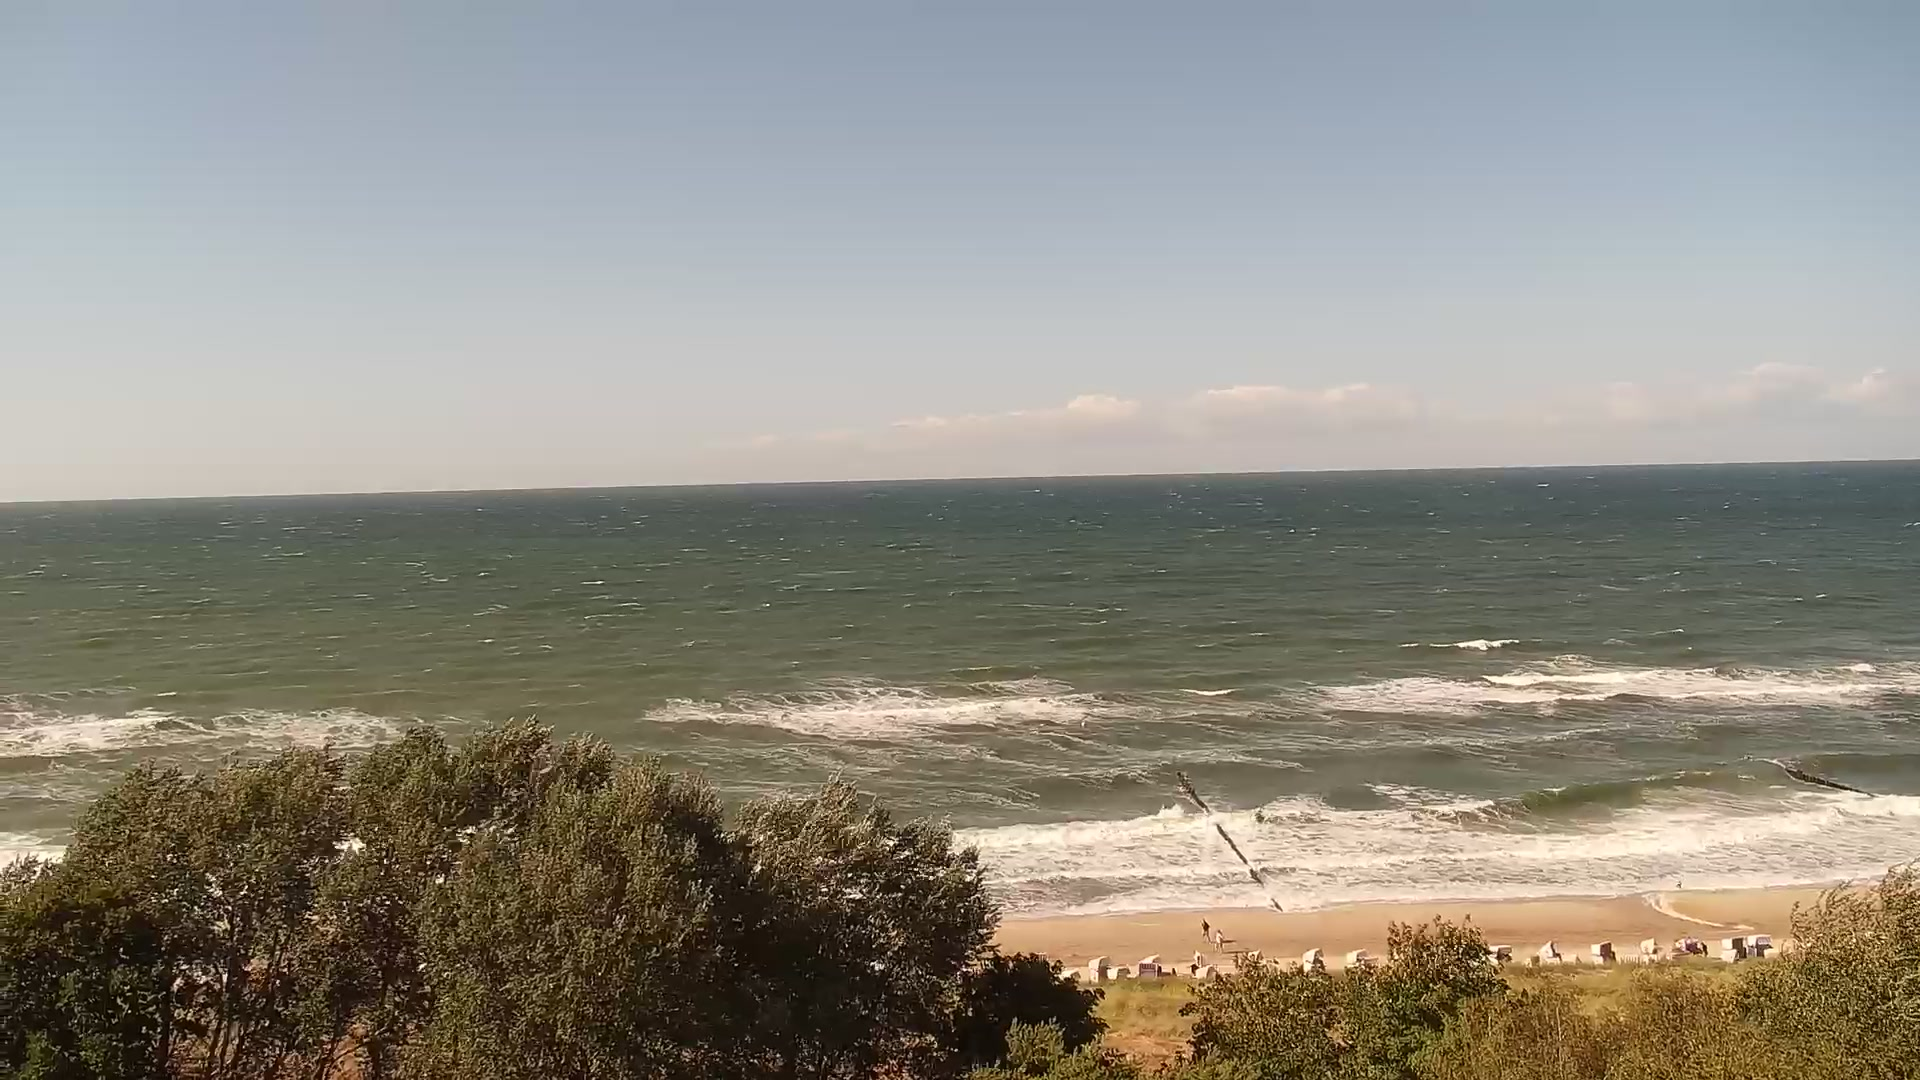human: (1200, 916, 1211, 943), (1215, 928, 1225, 952)
